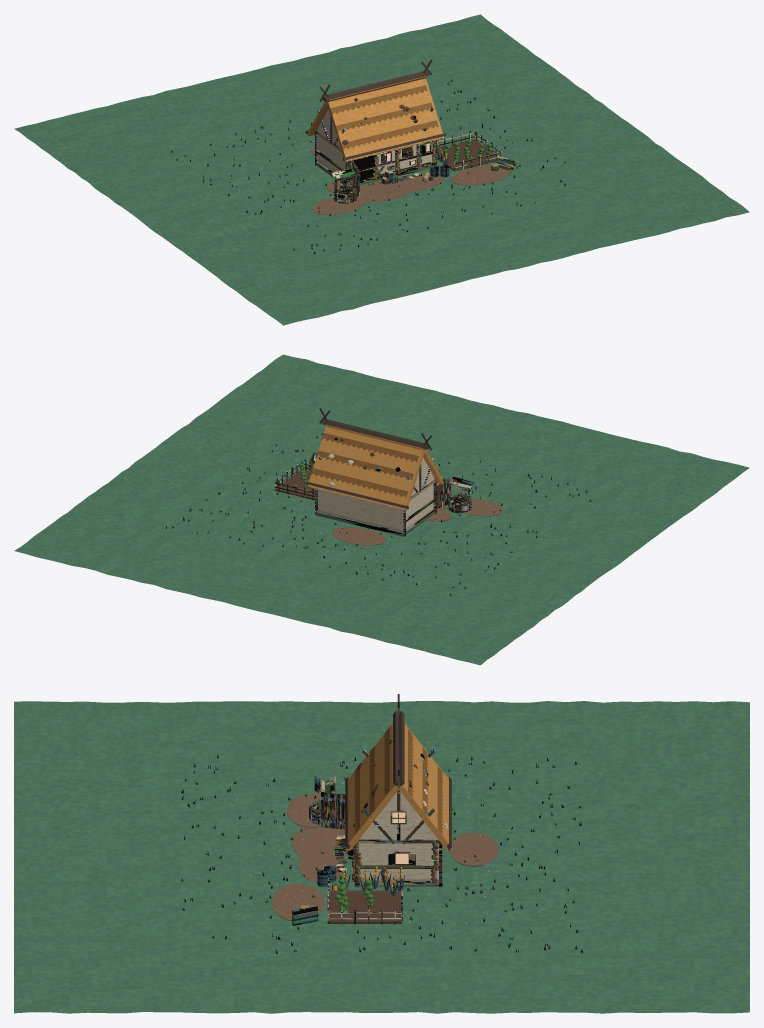
The model's file is farmhouse_baked.glb.
3 views of the same model, one above another, from view 1: azimuth 30°, elevation 25°; view 2: azimuth 150°, elevation 25°; view 3: azimuth 270°, elevation 25° (orthographic). The views are drawn at different scales.
Parts seen in each view (by area): view 1: Ground, Roof, House, Garden, Props, Grass, Well; view 2: Ground, Roof, House, Garden, Grass, Well; view 3: Ground, Roof, House, Garden, Grass, Props, BarnDoor, Vines, Well.
Part boxes in pixels (<box>): Ground: <box>14,14,749,325</box>; Roof: <box>305,60,445,162</box>; House: <box>315,107,436,186</box>; Garden: <box>436,130,501,171</box>; Props: <box>240,117,549,229</box>; Grass: <box>171,79,565,253</box>; Well: <box>331,167,359,203</box>; Ground: <box>14,354,749,665</box>; Roof: <box>305,408,446,510</box>; House: <box>315,455,436,536</box>; Garden: <box>274,460,314,500</box>; Grass: <box>166,433,591,595</box>; Well: <box>445,476,474,513</box>; Ground: <box>14,701,749,1013</box>; Roof: <box>345,694,451,850</box>; House: <box>348,749,442,887</box>; Garden: <box>327,866,404,924</box>; Grass: <box>181,754,582,953</box>; Props: <box>234,783,512,933</box>; BarnDoor: <box>320,791,345,829</box>; Vines: <box>353,833,439,884</box>; Well: <box>309,776,335,824</box>.
Size of the model in its own units: 44 by 8.47 by 44.
27 materials, 27 textured.
